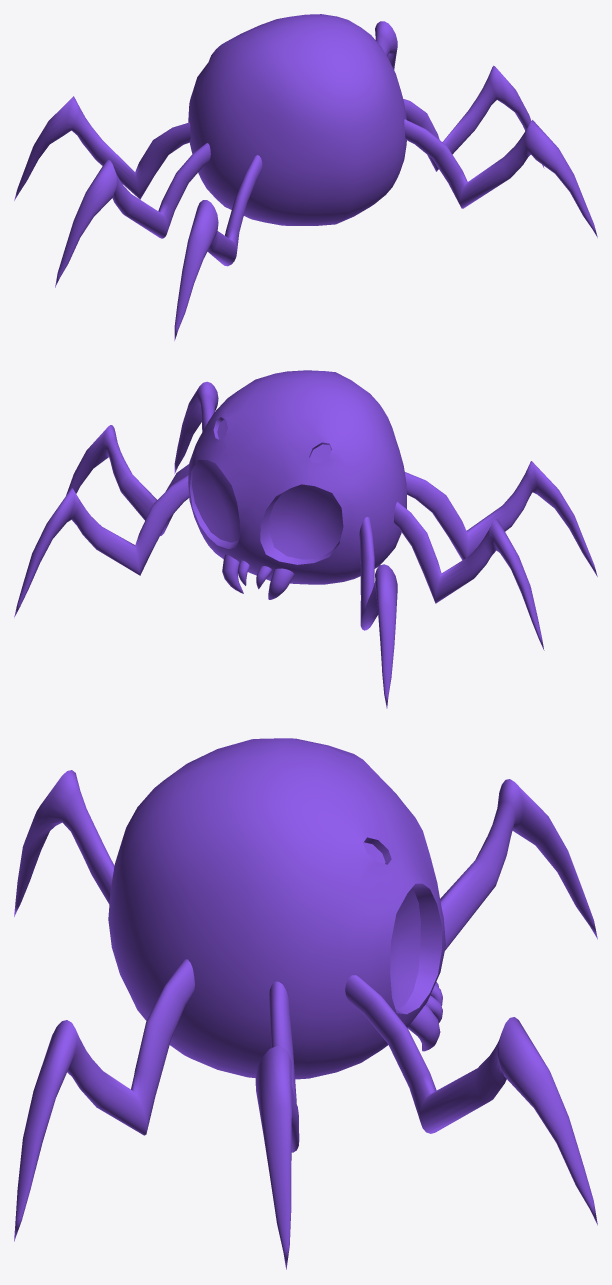
File: mob2low.fbx
3 renders of one model, top to bottom at view 1: azimuth 30°, elevation 25°; view 2: azimuth 150°, elevation 25°; view 3: azimuth 270°, elevation 25°, orthographic. The views are drawn at different scales.
Parts seen in each view (by area): view 1: corpo_LP, Pernas_LP; view 2: corpo_LP, Pernas_LP; view 3: corpo_LP, Pernas_LP.
Boxes of the visible parts, x1=… form: corpo_LP: x1=188, y1=14, x2=406, y2=225; Pernas_LP: x1=14, y1=21, x2=597, y2=340; corpo_LP: x1=188, y1=370, x2=406, y2=599; Pernas_LP: x1=14, y1=381, x2=597, y2=708; corpo_LP: x1=108, y1=738, x2=445, y2=1079; Pernas_LP: x1=14, y1=770, x2=597, y2=1269.
Size of the model in its own units: 460 by 188 by 303.
